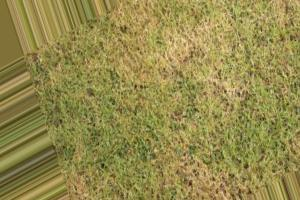patch: (113, 14, 159, 66), (166, 33, 229, 65)
